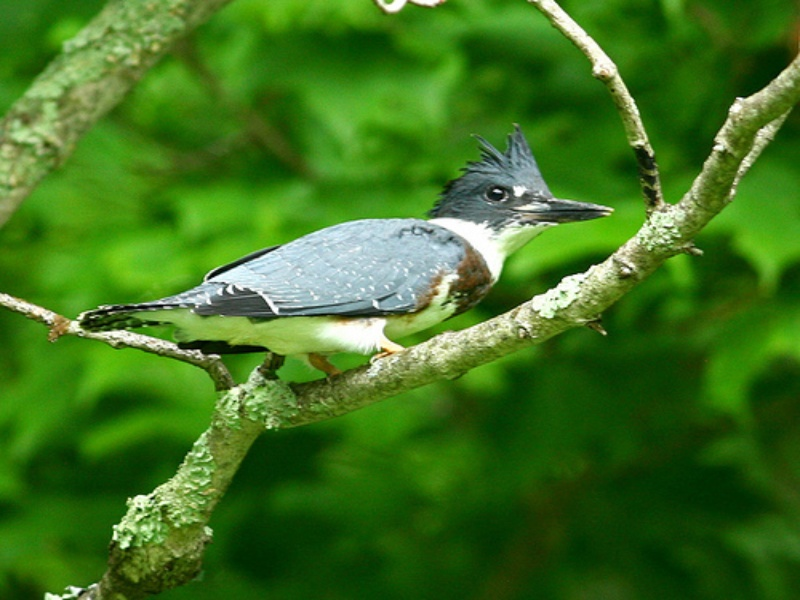kingfisher: (78, 119, 617, 391)
